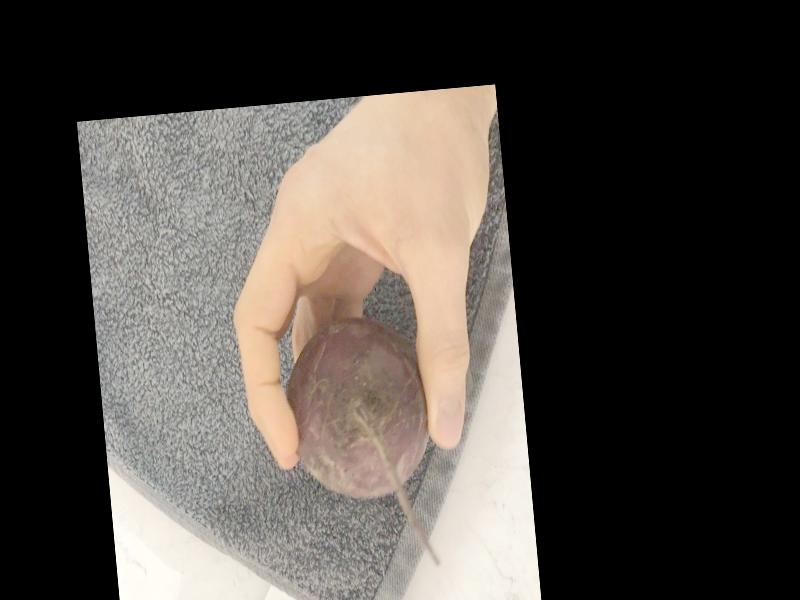Beet: (280, 312, 441, 578)
